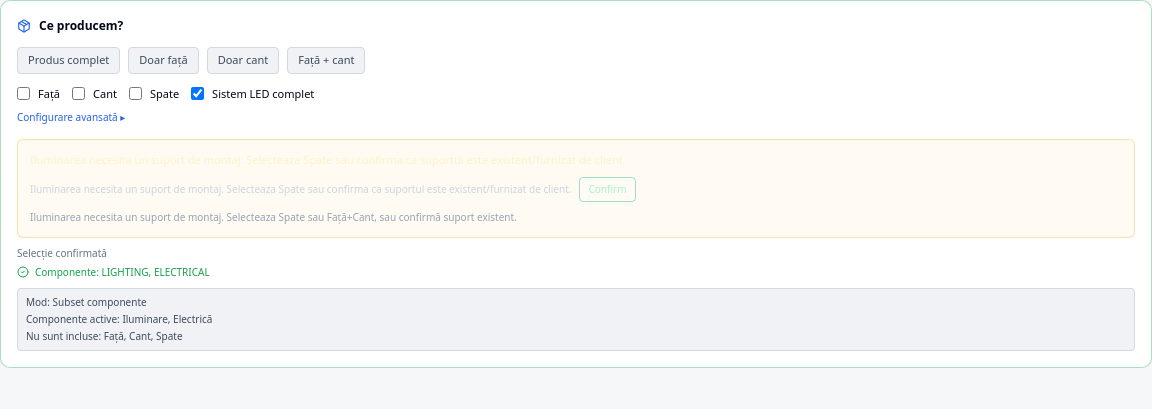
Test case: IntakeV6OfferScopePanel › reload preserves persisted LIGHTING and ELECTRICAL combination
Expected: the checkbox with test id "intake-v6-offer-scope-system-led" is checked, [191, 87, 204, 100]
What coordinates should you click on to do the following:
click the button with test id "intake-v6-offer-scope-advanced-toggle"
I would click on:
 (71, 118)
Its box is [17, 110, 125, 125].
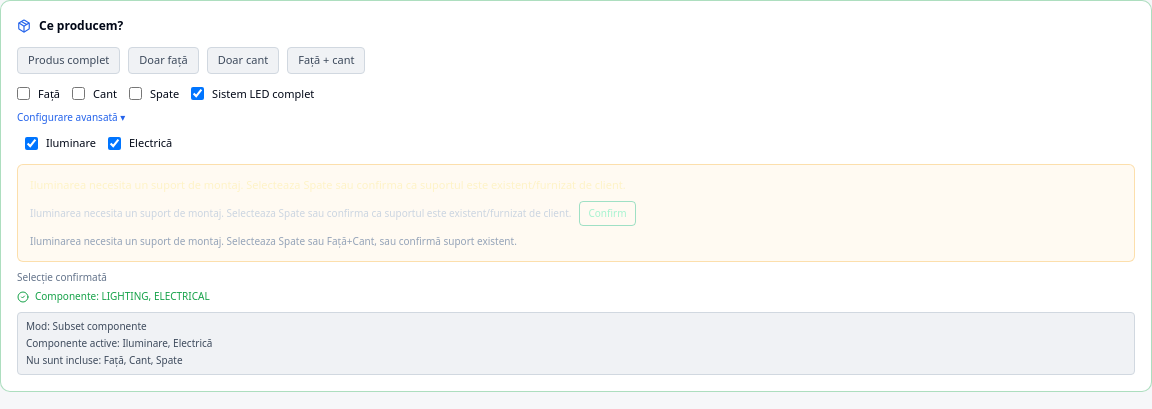
Expected: the text "Componente: LIGHTING, ELECTRICAL" is shown, [17, 289, 210, 303]
Expected: the checkbox with test id "intake-v6-offer-scope-lighting" is checked, [25, 137, 38, 150]
Expected: the checkbox with test id "intake-v6-offer-scope-electrical" is checked, [108, 137, 121, 150]
